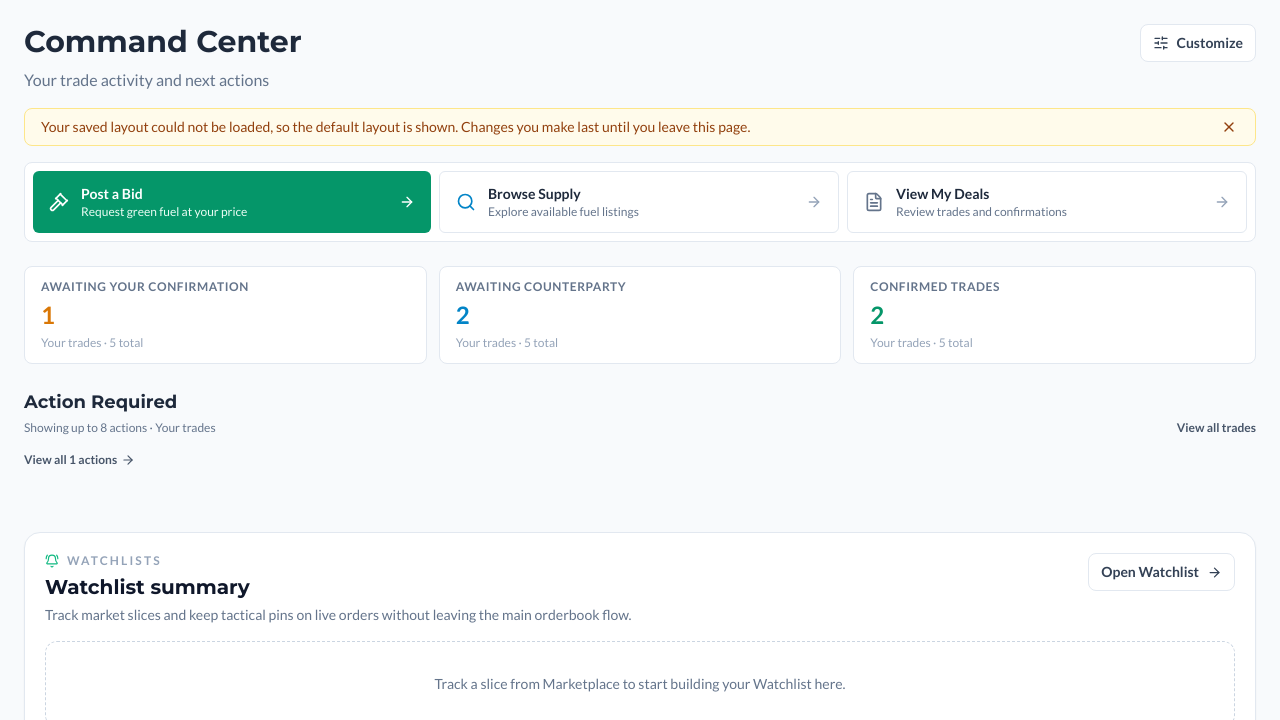
Test: customizable home › when the layout cannot be read › shows the default with a non-blocking notice and keeps the page usable
Check: the heading "Command Center" is shown, box [24,24,302,60]
Check: the text "saved layout could not be loaded" is shown, box [41,118,750,135]
Click the button named "Dismiss this message" at coordinates (1229, 127), box [1219,117,1239,137]
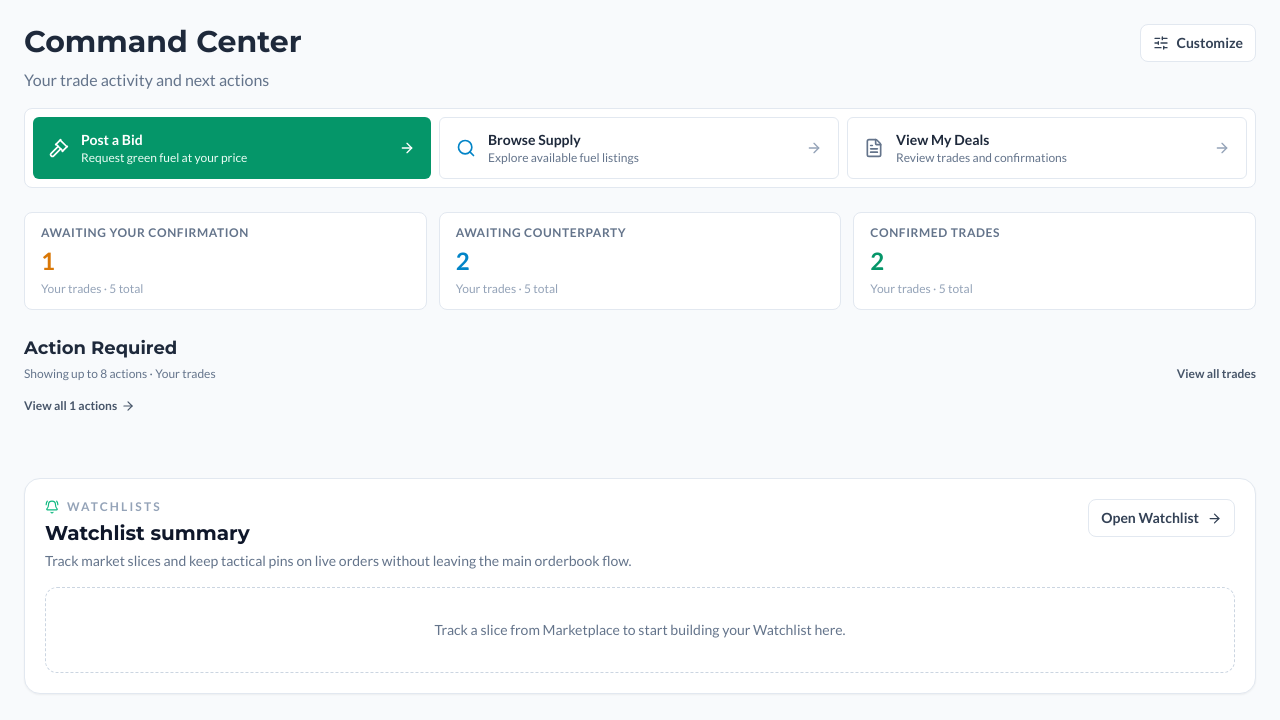
Check: the text "saved layout could not be loaded" is gone
